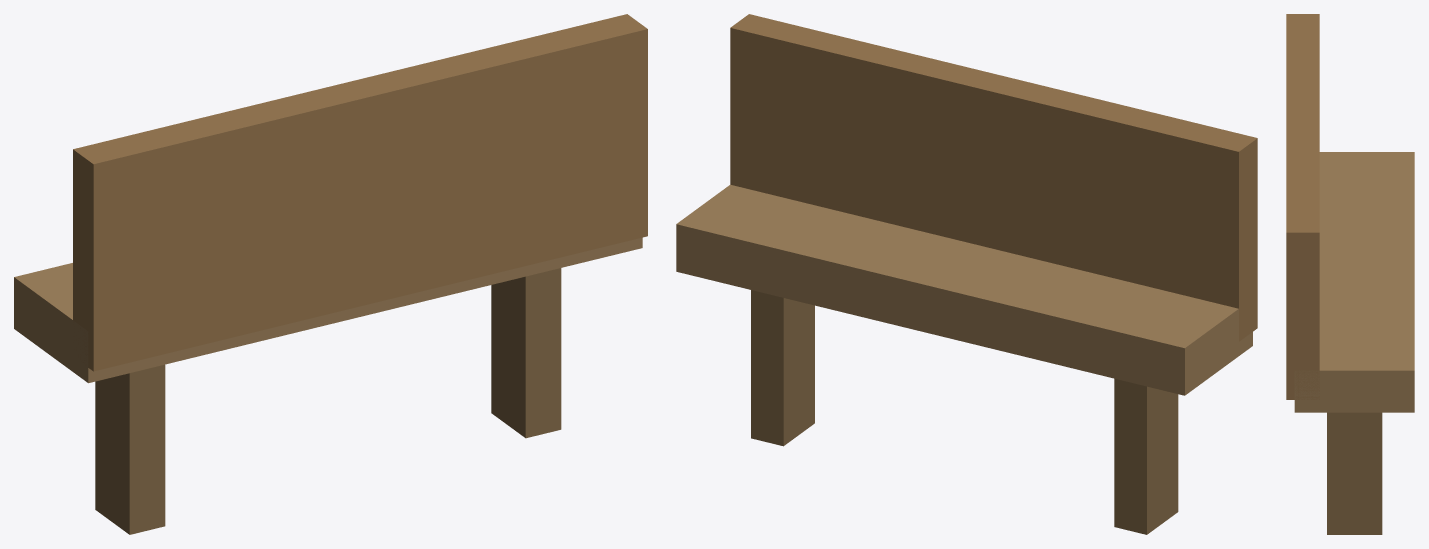
The model's file is bench.glb.
The picture shows the model from 3 angles, left to right: view 1: azimuth 30°, elevation 25°; view 2: azimuth 150°, elevation 25°; view 3: azimuth 270°, elevation 25°; orthographic projection. The views are drawn at different scales.
Visible parts, largest first — view 1: world; view 2: world; view 3: world.
Boxes of the visible parts, x1,y1,x2,y2 form: world: [14, 14, 647, 534]; world: [676, 14, 1257, 534]; world: [1286, 14, 1414, 534].
Bounding box in the file's own units: 2.8 × 1.95 × 0.695.
